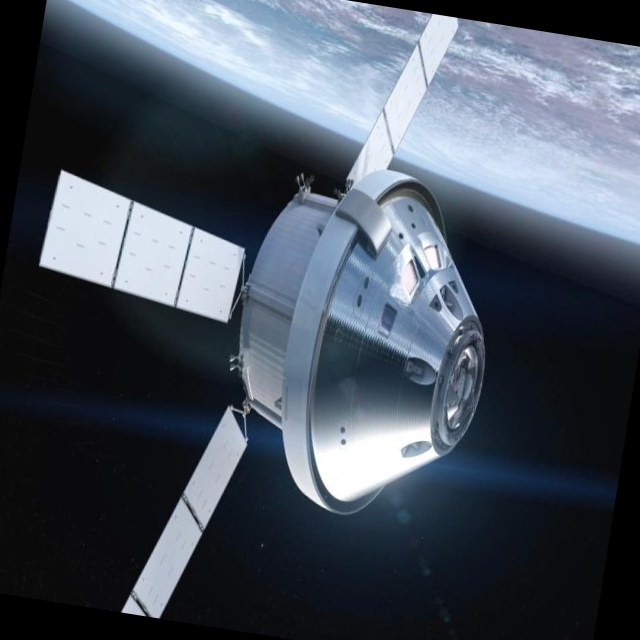medium_debris: (0, 0, 550, 640)
